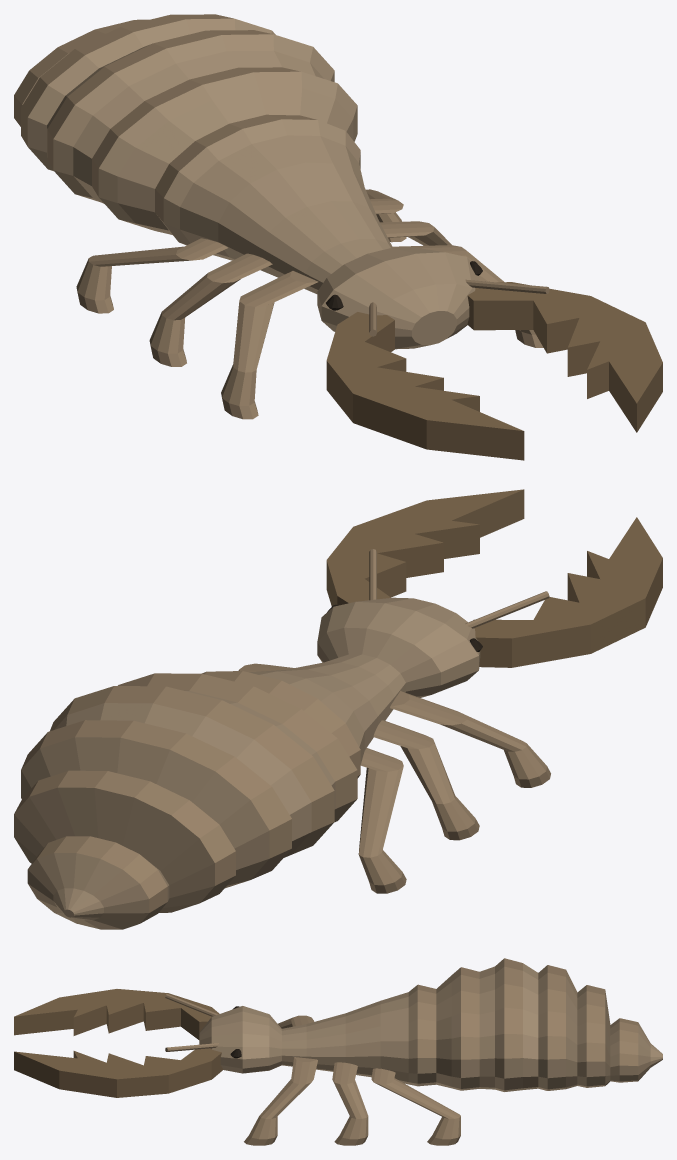
The picture shows the model from 3 angles, top to bottom: view 1: azimuth 30°, elevation 25°; view 2: azimuth 150°, elevation 25°; view 3: azimuth 270°, elevation 25°; orthographic projection. The views are drawn at different scales.
Parts seen in each view (by area): view 1: WholeFlattenedHeadNarrowNeckAndBroadAntlionAbdomen, WholeForwardCurvedToothedSickleJaw0, WholeForwardCurvedToothedSickleJaw1, WholeShortAnteriorLegAndFiniteSole0_0, WholeShortAnteriorLegAndFiniteSole0_1, WholeShortAnteriorLegAndFiniteSole0_2, WholeShortAnteriorLegAndFiniteSole1_1, WholeShortAnteriorLegAndFiniteSole1_0, WholeShortAnteriorLegAndFiniteSole1_2, WholeShortAntlionAntenna1; view 2: WholeFlattenedHeadNarrowNeckAndBroadAntlionAbdomen, WholeForwardCurvedToothedSickleJaw0, WholeForwardCurvedToothedSickleJaw1, WholeShortAnteriorLegAndFiniteSole0_2, WholeShortAnteriorLegAndFiniteSole0_1, WholeShortAnteriorLegAndFiniteSole0_0, WholeShortAntlionAntenna0; view 3: WholeFlattenedHeadNarrowNeckAndBroadAntlionAbdomen, WholeForwardCurvedToothedSickleJaw1, WholeForwardCurvedToothedSickleJaw0, WholeShortAnteriorLegAndFiniteSole1_0, WholeShortAnteriorLegAndFiniteSole1_2, WholeShortAnteriorLegAndFiniteSole1_1, WholeShortAnteriorLegAndFiniteSole0_0.
Boxes of the visible parts, left/top/right/bottom form: WholeFlattenedHeadNarrowNeckAndBroadAntlionAbdomen: left=14, top=14, right=479, bottom=349; WholeForwardCurvedToothedSickleJaw0: left=326, top=312, right=524, bottom=460; WholeForwardCurvedToothedSickleJaw1: left=467, top=282, right=662, bottom=432; WholeShortAnteriorLegAndFiniteSole0_0: left=221, top=271, right=318, bottom=419; WholeShortAnteriorLegAndFiniteSole0_1: left=149, top=253, right=272, bottom=366; WholeShortAnteriorLegAndFiniteSole0_2: left=76, top=238, right=227, bottom=313; WholeShortAnteriorLegAndFiniteSole1_1: left=380, top=221, right=451, bottom=245; WholeShortAnteriorLegAndFiniteSole1_0: left=393, top=245, right=543, bottom=347; WholeShortAnteriorLegAndFiniteSole1_2: left=366, top=189, right=406, bottom=242; WholeShortAntlionAntenna1: left=465, top=279, right=549, bottom=293; WholeFlattenedHeadNarrowNeckAndBroadAntlionAbdomen: left=14, top=597, right=480, bottom=929; WholeForwardCurvedToothedSickleJaw0: left=473, top=517, right=662, bottom=667; WholeForwardCurvedToothedSickleJaw1: left=326, top=489, right=524, bottom=606; WholeShortAnteriorLegAndFiniteSole0_2: left=358, top=748, right=406, bottom=893; WholeShortAnteriorLegAndFiniteSole0_1: left=373, top=720, right=479, bottom=840; WholeShortAnteriorLegAndFiniteSole0_0: left=390, top=691, right=550, bottom=787; WholeShortAntlionAntenna0: left=465, top=591, right=549, bottom=628; WholeFlattenedHeadNarrowNeckAndBroadAntlionAbdomen: left=199, top=958, right=662, bottom=1091; WholeForwardCurvedToothedSickleJaw1: left=14, top=1048, right=223, bottom=1097; WholeForwardCurvedToothedSickleJaw0: left=14, top=989, right=219, bottom=1039; WholeShortAnteriorLegAndFiniteSole1_0: left=244, top=1057, right=317, bottom=1145; WholeShortAnteriorLegAndFiniteSole1_2: left=371, top=1068, right=460, bottom=1145; WholeShortAnteriorLegAndFiniteSole1_1: left=332, top=1062, right=368, bottom=1145; WholeShortAnteriorLegAndFiniteSole0_0: left=278, top=1015, right=314, bottom=1028.
Size of the model in its own units: 1.13 by 0.65 by 3.15.
